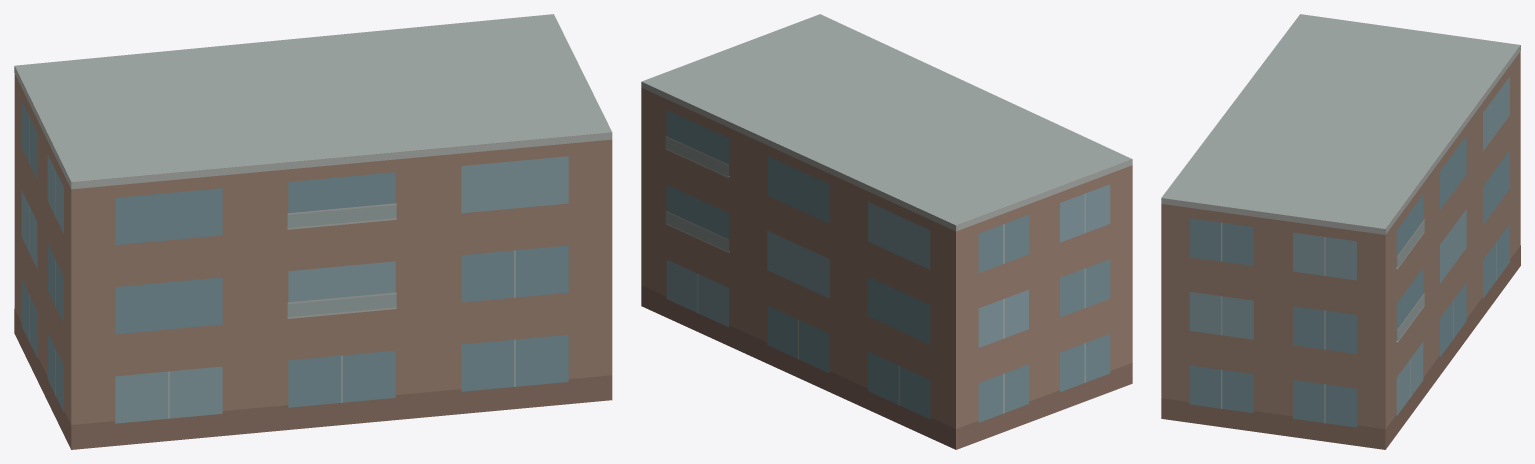
File: survey-upis-32871848.glb
3 views of the same model, side by side, from view 1: azimuth 30°, elevation 25°; view 2: azimuth 150°, elevation 25°; view 3: azimuth 270°, elevation 25° (orthographic). The views are drawn at different scales.
Visible parts, largest first — view 1: survey-upis-32871848.tmp; view 2: survey-upis-32871848.tmp; view 3: survey-upis-32871848.tmp.
Part boxes in pixels (bbox=[...]): survey-upis-32871848.tmp: bbox=[14, 14, 612, 449]; survey-upis-32871848.tmp: bbox=[641, 14, 1132, 449]; survey-upis-32871848.tmp: bbox=[1161, 14, 1520, 449].
Bounding box in the file's own units: 19.12 × 9.15 × 13.51.
